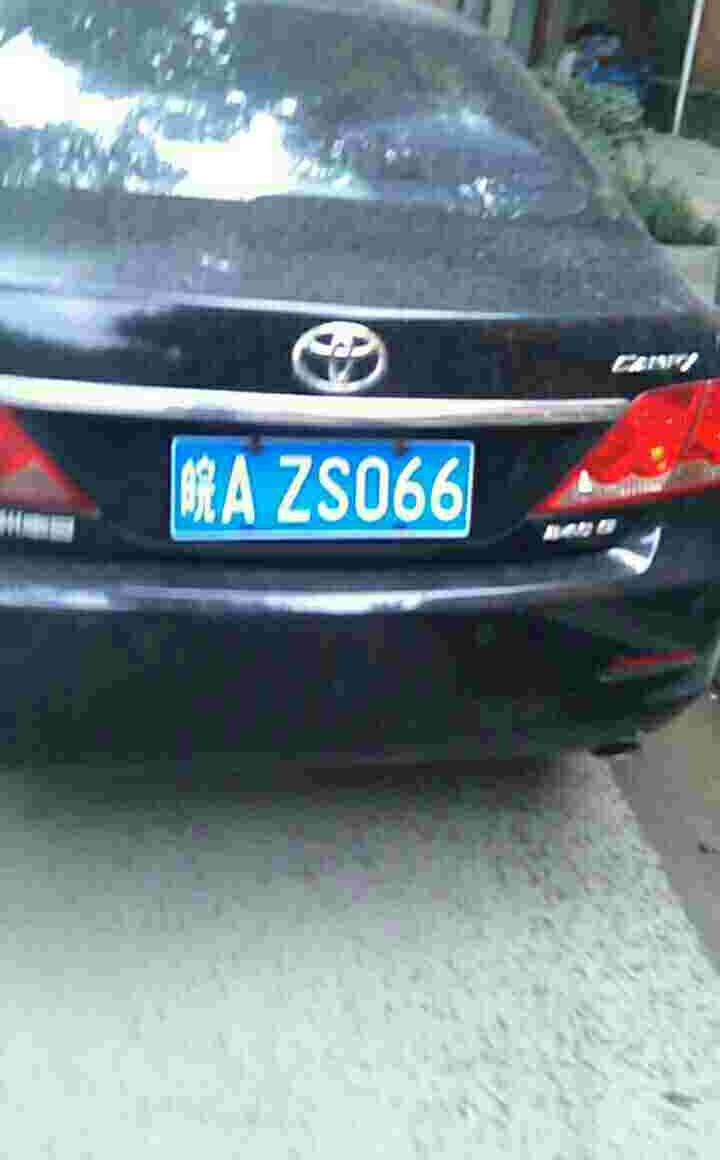car: (167, 448, 479, 536)
